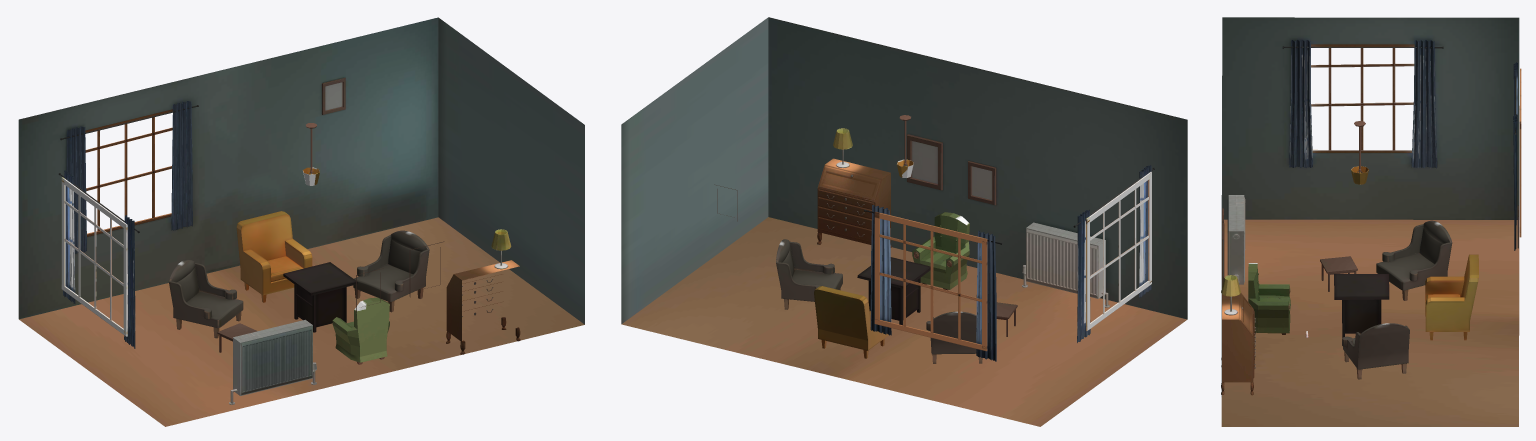
The model's file is no-user3.glb.
The picture shows the model from 3 angles, left to right: view 1: azimuth 30°, elevation 25°; view 2: azimuth 150°, elevation 25°; view 3: azimuth 270°, elevation 25°; orthographic projection.
Parts seen in each view (by area): view 1: murs, sol, Radiator, armchair, petit fauteuil bas.001, petit fauteuil bas, Table haute, window1, fauteuil vert.001, rideaux_d.001, window2, commode (+4 smaller); view 2: murs, sol, commode, window2, Radiator, armchair, window1, fauteuil vert.001, petit fauteuil bas.001, rideaux_g.001, rideaux_d.001, Table haute (+5 smaller); view 3: sol, murs, petit fauteuil bas, armchair, rideaux_d, commode, rideaux_g, Table haute, petit fauteuil bas.001, window1, fauteuil vert.001, Radiator (+5 smaller).
Part boxes in pixels (left/top/right/bottom): murs: left=18, top=17, right=584, bottom=324; sol: left=19, top=217, right=584, bottom=426; Radiator: left=229, top=319, right=316, bottom=404; armchair: left=236, top=211, right=312, bottom=302; petit fauteuil bas.001: left=353, top=230, right=429, bottom=312; petit fauteuil bas: left=169, top=259, right=243, bottom=338; Table haute: left=283, top=262, right=357, bottom=332; window1: left=61, top=177, right=127, bottom=336; fauteuil vert.001: left=332, top=297, right=389, bottom=364; rideaux_d.001: left=171, top=101, right=192, bottom=230; window2: left=85, top=109, right=172, bottom=236; commode: left=446, top=260, right=520, bottom=354; murs: left=621, top=17, right=1187, bottom=323; sol: left=621, top=217, right=1187, bottom=426; commode: left=817, top=158, right=891, bottom=247; window2: left=874, top=211, right=987, bottom=351; Radiator: left=1022, top=222, right=1109, bottom=307; armchair: left=814, top=286, right=888, bottom=358; window1: left=1086, top=172, right=1151, bottom=330; fauteuil vert.001: left=912, top=212, right=969, bottom=290; petit fauteuil bas.001: left=776, top=239, right=842, bottom=309; rideaux_g.001: left=976, top=230, right=996, bottom=361; rideaux_d.001: left=870, top=205, right=891, bottom=335; Table haute: left=857, top=257, right=930, bottom=325; sol: left=1221, top=219, right=1519, bottom=426; murs: left=1221, top=17, right=1519, bottom=396; petit fauteuil bas: left=1376, top=220, right=1452, bottom=300; armchair: left=1425, top=254, right=1478, bottom=340; rideaux_d: left=1411, top=40, right=1437, bottom=168; commode: left=1221, top=293, right=1255, bottom=395; rideaux_g: left=1289, top=39, right=1312, bottom=167; Table haute: left=1334, top=274, right=1389, bottom=337; petit fauteuil bas.001: left=1342, top=323, right=1409, bottom=379; window1: left=1311, top=44, right=1414, bottom=152; fauteuil vert.001: left=1248, top=263, right=1290, bottom=334; Radiator: left=1227, top=195, right=1245, bottom=284.
Bounding box in the file's own units: 7.25 × 3.3 × 4.4.
31 materials, 22 textured.
